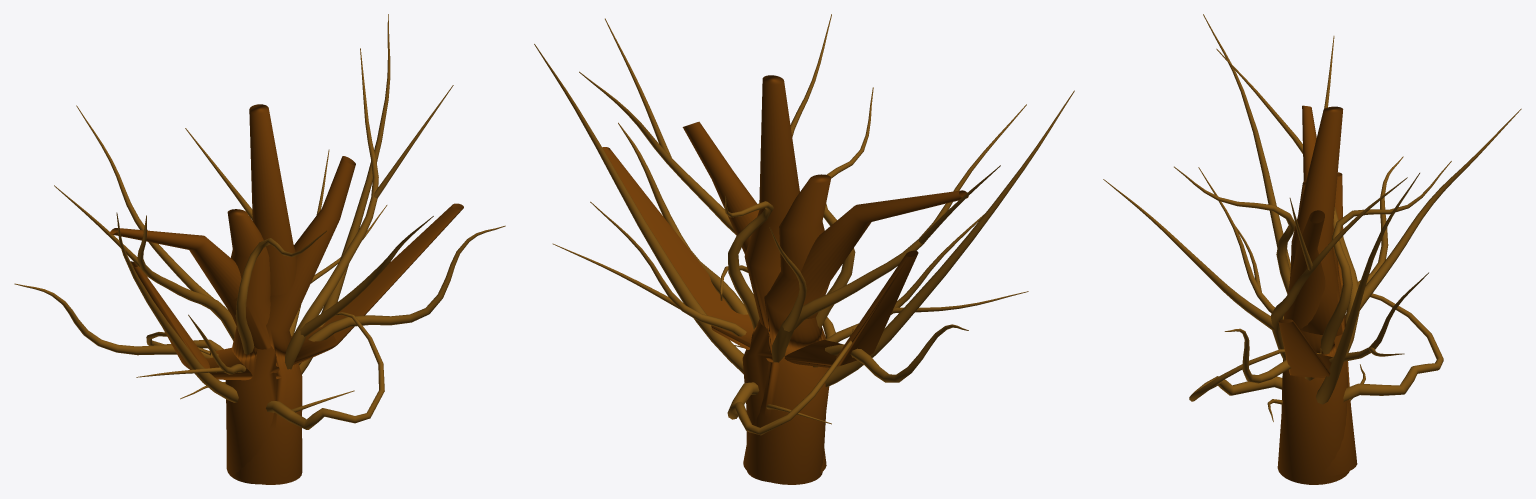
File: ArvoresText05.fbx
3 views of the same model, side by side, from view 1: azimuth 30°, elevation 25°; view 2: azimuth 150°, elevation 25°; view 3: azimuth 270°, elevation 25° (orthographic). The views are drawn at different scales.
Visible parts, largest first — view 1: Cylinder, tree.001; view 2: Cylinder, tree.001; view 3: Cylinder, tree.001.
Part boxes in pixels (x1,y1,x2,y2): Cylinder: [110, 104, 463, 484]; tree.001: [14, 14, 505, 429]; Cylinder: [602, 75, 968, 484]; tree.001: [534, 14, 1074, 435]; Cylinder: [1277, 105, 1357, 484]; tree.001: [1103, 14, 1521, 421].
Bounding box in the file's own units: 182 × 161 × 163.
